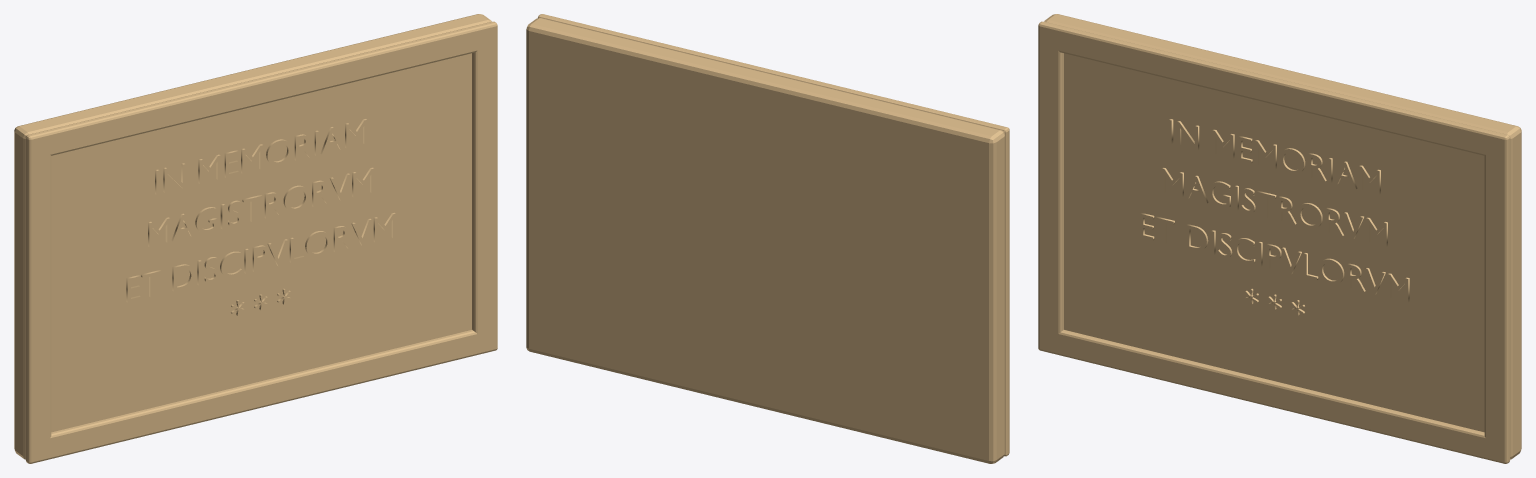
Rendered from plaque.glb.
The picture shows the model from 3 angles, left to right: view 1: azimuth 30°, elevation 25°; view 2: azimuth 150°, elevation 25°; view 3: azimuth 330°, elevation 25°; orthographic projection.
Parts seen in each view (by area): view 1: plaque; view 2: plaque; view 3: plaque.
Part boxes in pixels (x1,y1,x2,y2): plaque: (14, 14, 497, 463); plaque: (526, 14, 1009, 463); plaque: (1038, 14, 1521, 463).
Bounding box in the file's own units: 1.2 × 0.8 × 0.075.
